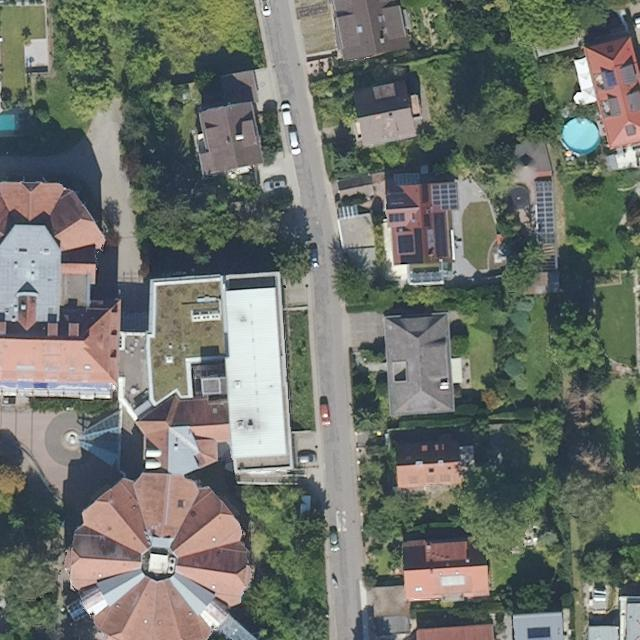PV: (533, 177, 557, 246), (429, 178, 461, 213), (387, 211, 407, 225)
